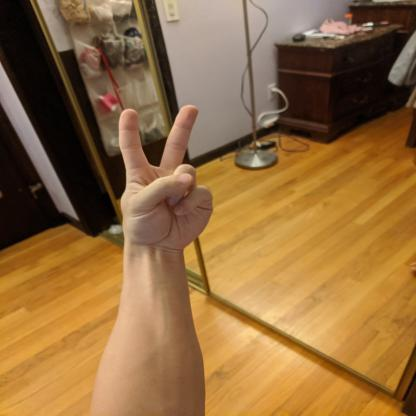V: (113, 102, 217, 252)
